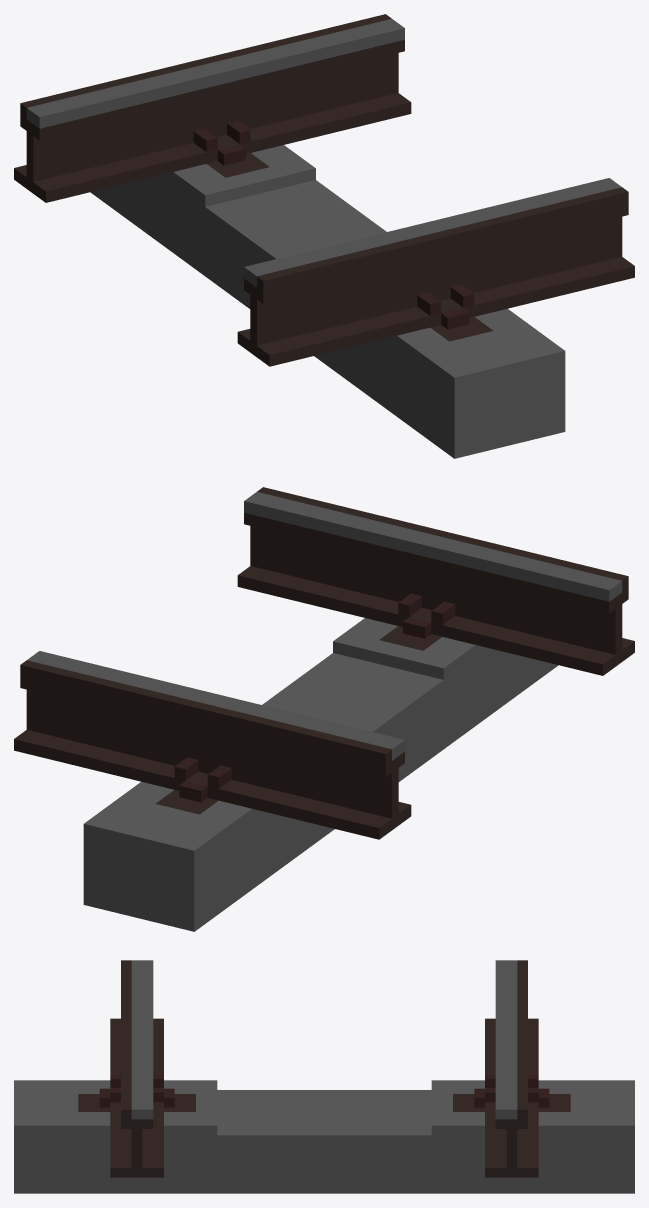
The model's file is voxel-narrow-concrete.obj.
3 renders of one model, top to bottom at view 1: azimuth 30°, elevation 25°; view 2: azimuth 150°, elevation 25°; view 3: azimuth 270°, elevation 25°, orthographic. The views are drawn at different scales.
Parts seen in each view (by area): view 1: RAIL_BASE_1, RAIL_LEFT, RAIL_RIGHT, RAIL_BASE; view 2: RAIL_BASE_1, RAIL_RIGHT, RAIL_LEFT, RAIL_BASE; view 3: RAIL_BASE_1, RAIL_RIGHT, RAIL_LEFT, RAIL_BASE.
Boxes of the visible parts, box(x1,y1,x2,y2) form: RAIL_BASE_1: box(90, 145, 565, 458); RAIL_LEFT: box(237, 178, 634, 366); RAIL_RIGHT: box(14, 14, 411, 202); RAIL_BASE: box(193, 120, 474, 329); RAIL_BASE_1: box(83, 618, 558, 931); RAIL_RIGHT: box(14, 651, 411, 839); RAIL_LEFT: box(237, 487, 634, 675); RAIL_BASE: box(174, 593, 455, 802); RAIL_BASE_1: box(14, 1080, 634, 1193); RAIL_RIGHT: box(485, 960, 538, 1177); RAIL_LEFT: box(110, 960, 163, 1177); RAIL_BASE: box(99, 1074, 549, 1107).
Bounding box in the file's own units: 1.03 × 0.4375 × 1.81.
1 material, 1 textured.
